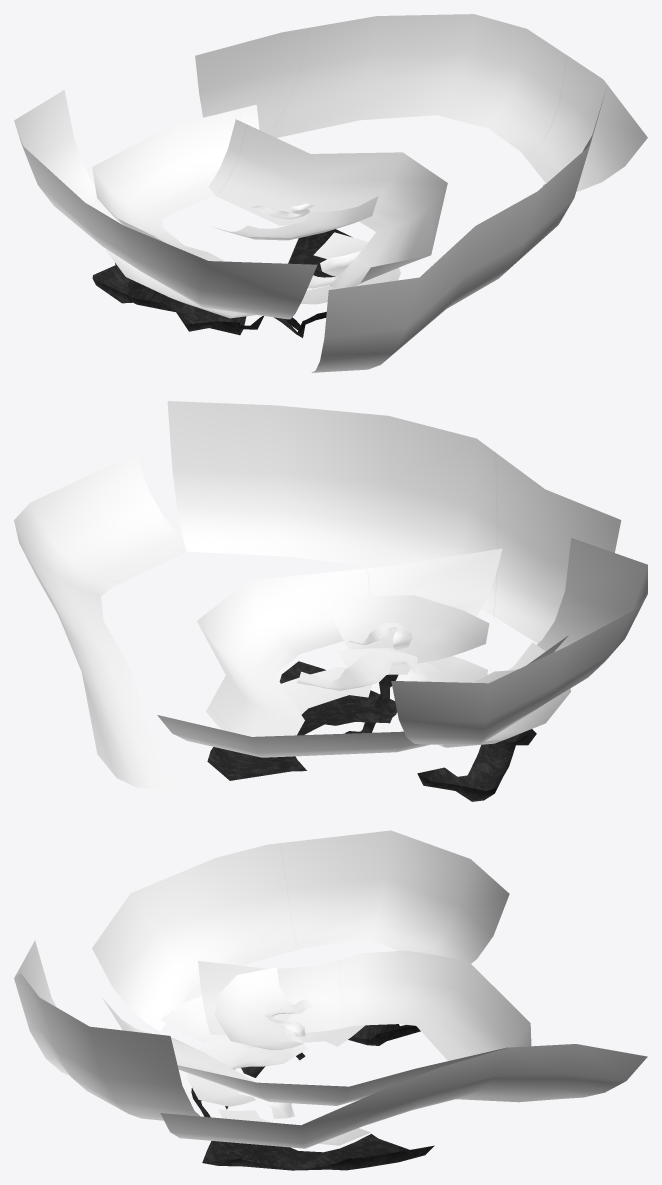
The model's file is Fog.fbx.
3 renders of one model, top to bottom at view 1: azimuth 30°, elevation 25°; view 2: azimuth 150°, elevation 25°; view 3: azimuth 270°, elevation 25°, orthographic. The views are drawn at different scales.
Parts seen in each view (by area): view 1: m5201B1A18; view 2: m5201B1A18; view 3: m5201B1A18.
Boxes of the visible parts, box(x1,y1,x2,y2) form: m5201B1A18: box(14, 14, 647, 372); m5201B1A18: box(14, 401, 647, 801); m5201B1A18: box(14, 830, 647, 1170).
Bounding box in the file's own units: 1077 × 431 × 1102.
